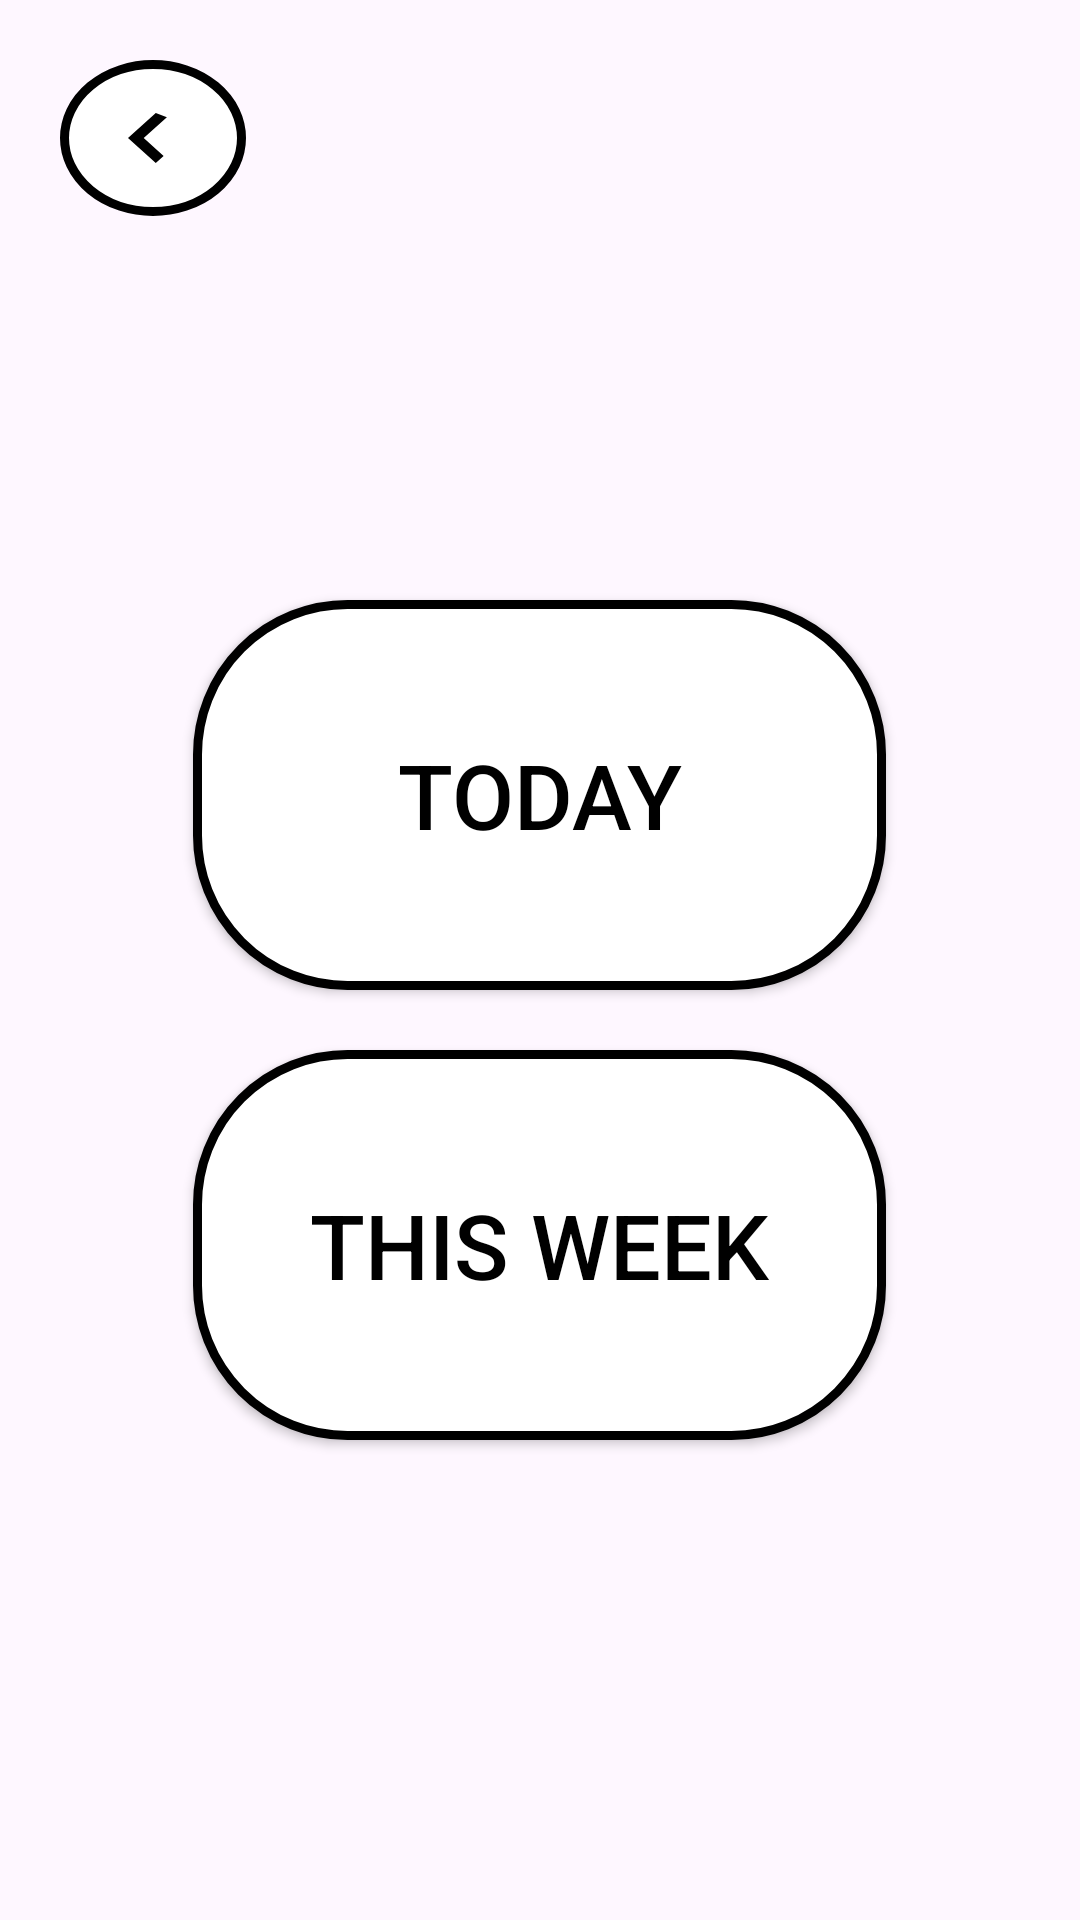

Named icons in this screenshot (1080×1920) and their centers, [x,y]:
arrow left: [153,138]
